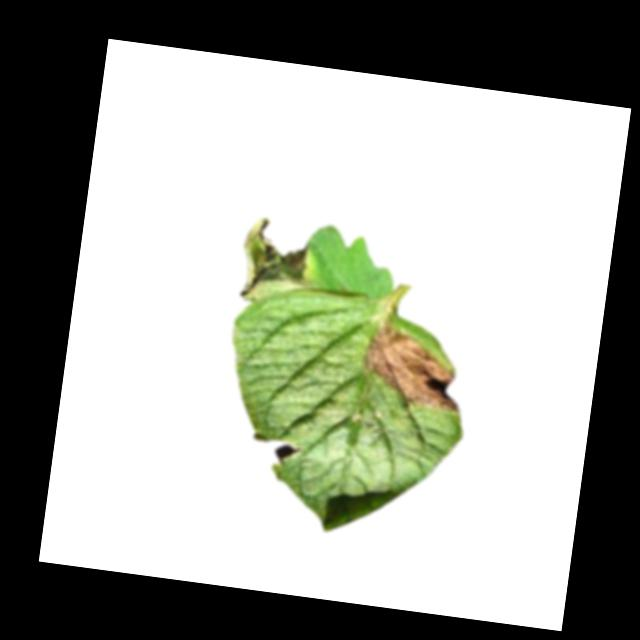Late_blight: (358, 316, 474, 415), (235, 216, 317, 309)
